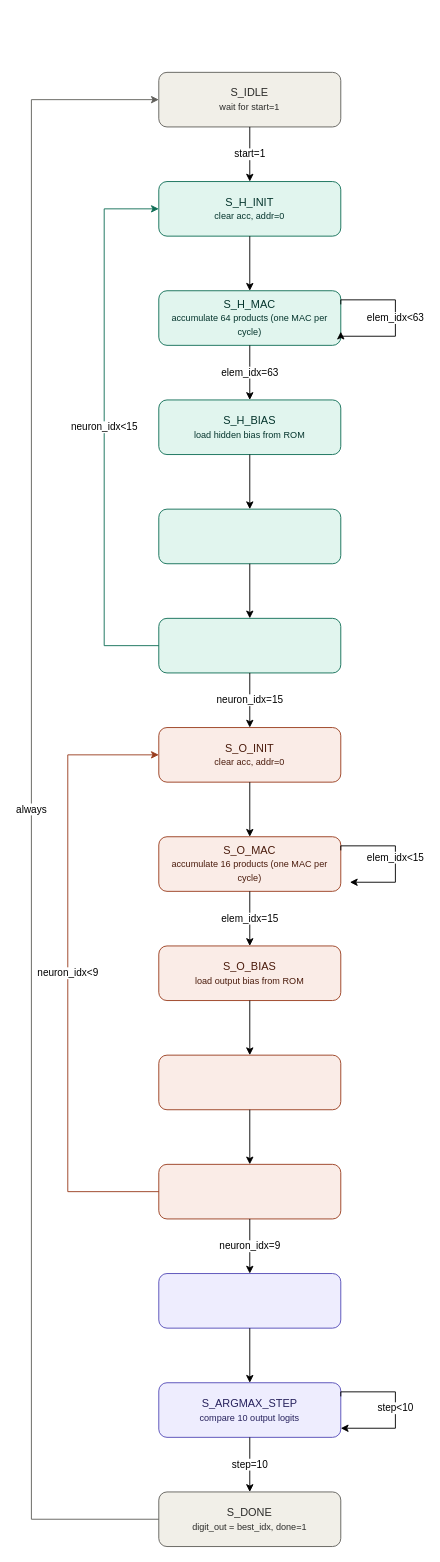
The diagram is 440 pixels wide and 1562 high, and some of its shapes have lost their labels. Each missing label, with the centre of its shape:
S_ARGMAX_INIT best_idx=0, best_val=output(0): the point at 249,1300
S_H_NEXT advance to next hidden neuron: the point at 249,645
S_H_RESCALE shift + saturate + ReLU: the point at 249,536
S_O_NEXT advance to next output neuron: the point at 249,1191
S_O_RESCALE shift + saturate (no ReLU): the point at 249,1082
